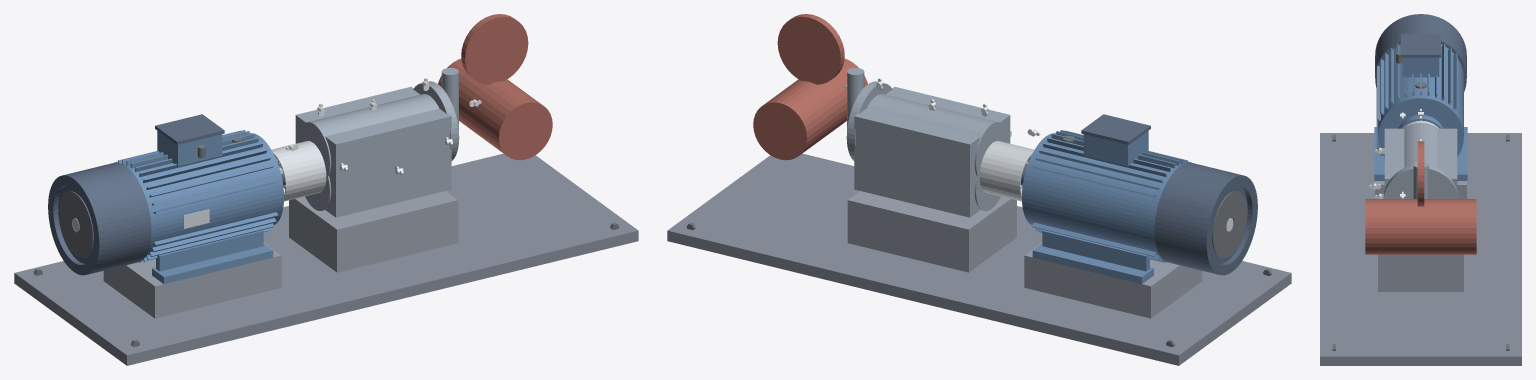
The model's file is compressor.glb.
The picture shows the model from 3 angles, left to right: view 1: azimuth 30°, elevation 25°; view 2: azimuth 150°, elevation 25°; view 3: azimuth 270°, elevation 25°; orthographic projection. The views are drawn at different scales.
Parts seen in each view (by area): view 1: PART_001, CASING_AIREND_051, PART_055, CASING_MOTORBODY_006, PART_022, CASING_FINS_009, CASING_SEPARATOR_070, CASING_COWL_010, CASING_SEPARATOR_071, CASING_AIREND_052, CASING_COWL_011, CASING_GUARD_050 (+8 smaller); view 2: PART_001, CASING_AIREND_051, CASING_MOTORBODY_006, PART_055, PART_022, CASING_SEPARATOR_070, CASING_COWL_010, CASING_FINS_009, CASING_SEPARATOR_071, CASING_AIREND_052, CASING_COWL_011, CASING_GUARD_050 (+8 smaller); view 3: PART_001, CASING_SEPARATOR_070, PART_055, CASING_FINS_009, CASING_COWL_010, CASING_MOTORBODY_006, CASING_AIREND_051, CASING_ENDBELL_007, CASING_AIREND_054, CASING_AIREND_052, PART_014, CASING_TERMBOX_013 (+7 smaller).
Part boxes in pixels (x1,y1,x2,y2): PART_001: (14, 153, 638, 365); CASING_AIREND_051: (295, 86, 451, 217); PART_055: (289, 191, 458, 272); CASING_MOTORBODY_006: (124, 133, 282, 256); PART_022: (103, 243, 281, 318); CASING_FINS_009: (114, 130, 278, 262); CASING_SEPARATOR_070: (438, 58, 552, 160); CASING_COWL_010: (58, 162, 151, 273); CASING_SEPARATOR_071: (461, 14, 528, 84); CASING_AIREND_052: (299, 94, 439, 178); CASING_COWL_011: (48, 174, 105, 275); CASING_GUARD_050: (271, 141, 326, 201); PART_001: (667, 153, 1291, 365); CASING_AIREND_051: (854, 86, 1010, 217); CASING_MOTORBODY_006: (1023, 133, 1181, 256); PART_055: (847, 191, 1016, 272); PART_022: (1024, 243, 1202, 318); CASING_SEPARATOR_070: (753, 58, 867, 160); CASING_COWL_010: (1154, 162, 1247, 273); CASING_FINS_009: (1032, 130, 1191, 262); CASING_SEPARATOR_071: (777, 14, 844, 84); CASING_AIREND_052: (866, 94, 1006, 178); CASING_COWL_011: (1200, 174, 1257, 275); CASING_GUARD_050: (979, 141, 1034, 201); PART_001: (1320, 133, 1521, 365); CASING_SEPARATOR_070: (1365, 199, 1476, 254); PART_055: (1378, 254, 1463, 291); CASING_FINS_009: (1376, 43, 1457, 160); CASING_COWL_010: (1375, 16, 1466, 91); CASING_MOTORBODY_006: (1378, 44, 1463, 135); CASING_AIREND_051: (1384, 128, 1457, 189); CASING_ENDBELL_007: (1378, 94, 1463, 156); CASING_AIREND_054: (1383, 165, 1458, 198); CASING_AIREND_052: (1404, 123, 1437, 167); PART_014: (1401, 34, 1440, 57); CASING_TERMBOX_013: (1402, 57, 1439, 77).
Size of the model in its own units: 3.8 by 1.46 by 1.45.
